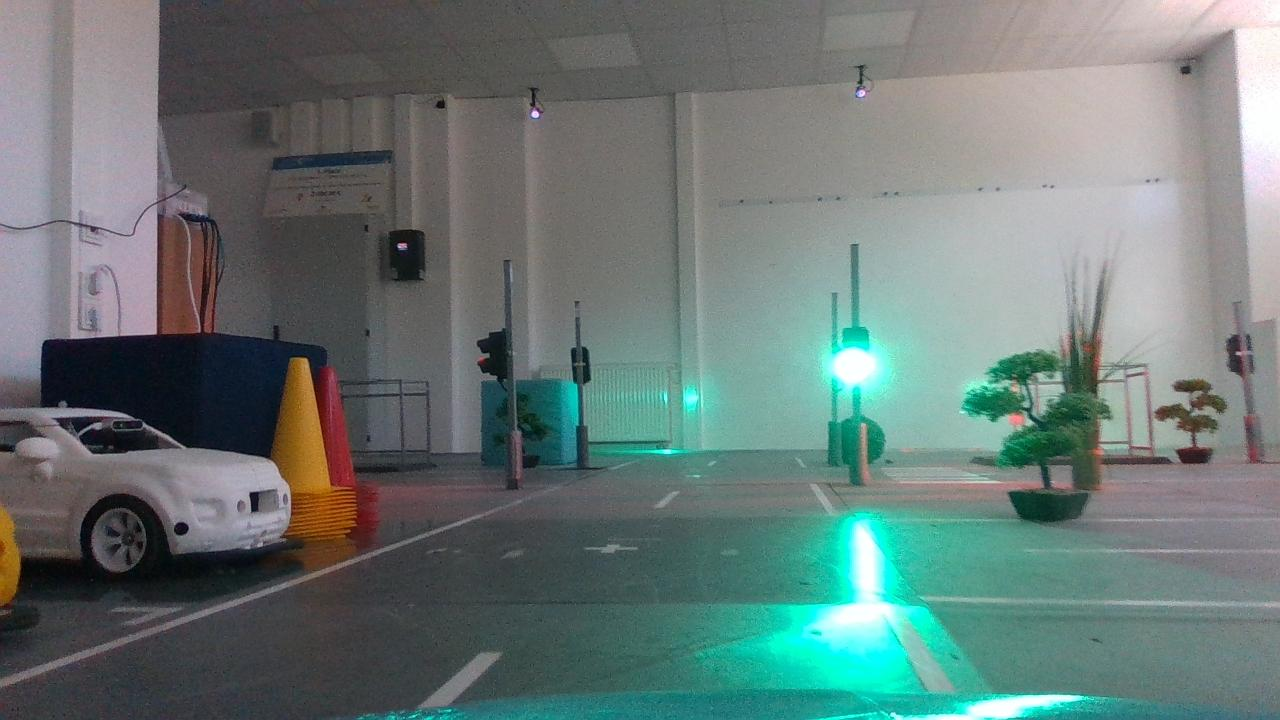traffic_light_green: (835, 323, 877, 396)
